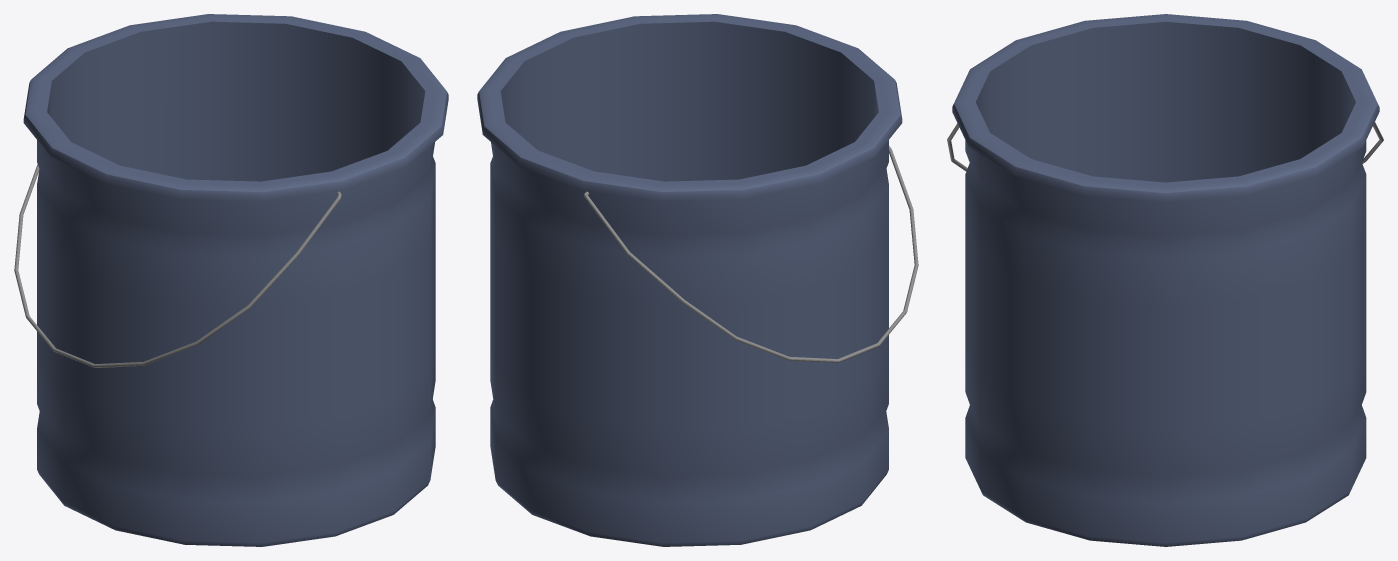
Rendered from Balde.fbx.
The picture shows the model from 3 angles, left to right: view 1: azimuth 30°, elevation 25°; view 2: azimuth 150°, elevation 25°; view 3: azimuth 270°, elevation 25°; orthographic projection.
Parts seen in each view (by area): view 1: pCylinder1, pTorus4; view 2: pCylinder1, pTorus4; view 3: pCylinder1.
Part boxes in pixels (x1,y1,x2,y2): pCylinder1: (23,14,448,546); pTorus4: (14,164,341,367); pCylinder1: (477,14,902,546); pTorus4: (584,146,918,362); pCylinder1: (952,14,1379,546).
Size of the model in its own units: 2.14 by 2 by 2.18.
